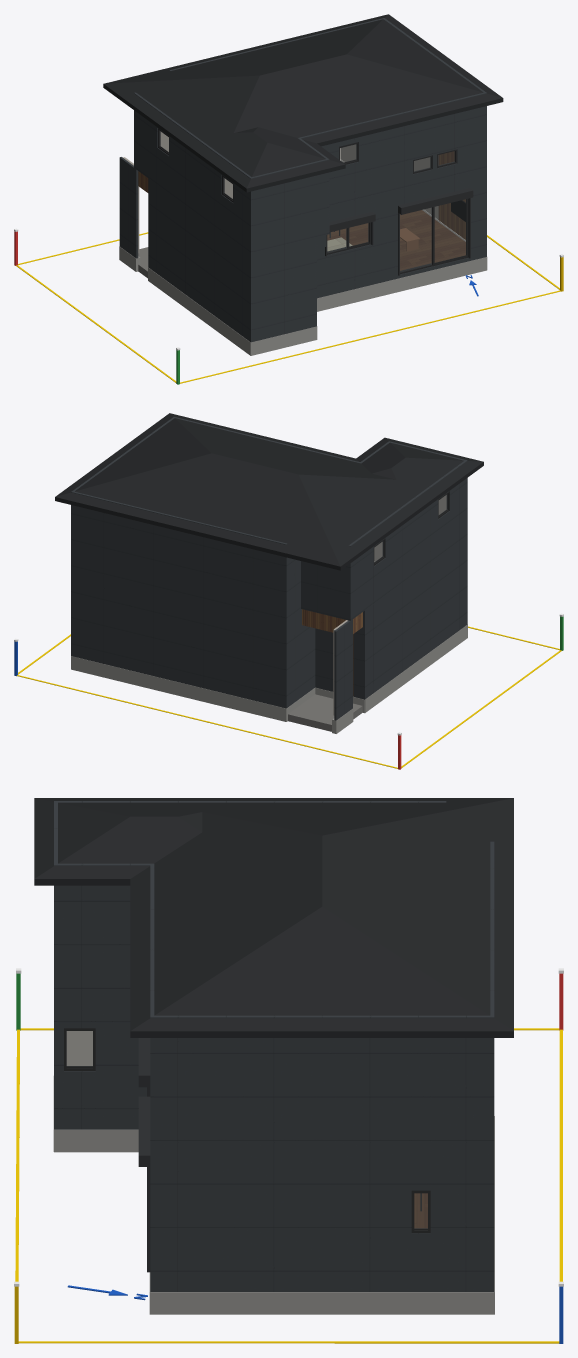
File: B_22_half.glb
3 views of the same model, one above another, from view 1: azimuth 30°, elevation 25°; view 2: azimuth 150°, elevation 25°; view 3: azimuth 270°, elevation 25° (orthographic). The views are drawn at different scales.
Visible parts, largest first — view 1: siding, roof, found, glass, floor, shutter, frame, lotline, wall, accent; view 2: siding, roof, found, lotline, tile, woodceil, wall; view 3: siding, roof, found, lotline, shutter, glass, wall, frame.
Part boxes in pixels (x1,y1,x2,y2): siding: (119,18,486,342); roof: (103,14,503,192); found: (119,246,487,355); glass: (160,132,465,271); floor: (327,210,465,270); shutter: (325,188,473,275); frame: (158,128,468,274); lotline: (16,232,560,383); wall: (123,131,438,253); accent: (438,151,465,239); siding: (71,417,467,720); roof: (55,413,483,570); found: (71,624,467,733); lotline: (17,626,561,768); tile: (288,694,362,731); woodceil: (302,609,362,633); wall: (333,495,446,715); siding: (54,801,494,1291); roof: (34,798,513,1037); found: (53,1076,494,1314); lotline: (15,1028,562,1343); shutter: (138,1038,150,1272); glass: (67,1031,427,1227); wall: (66,1031,92,1065); frame: (64,1028,430,1233).
Bounding box in the file's own units: 14.14 × 7.01 × 10.42.
Materials: 31 (6 with a texture image).
